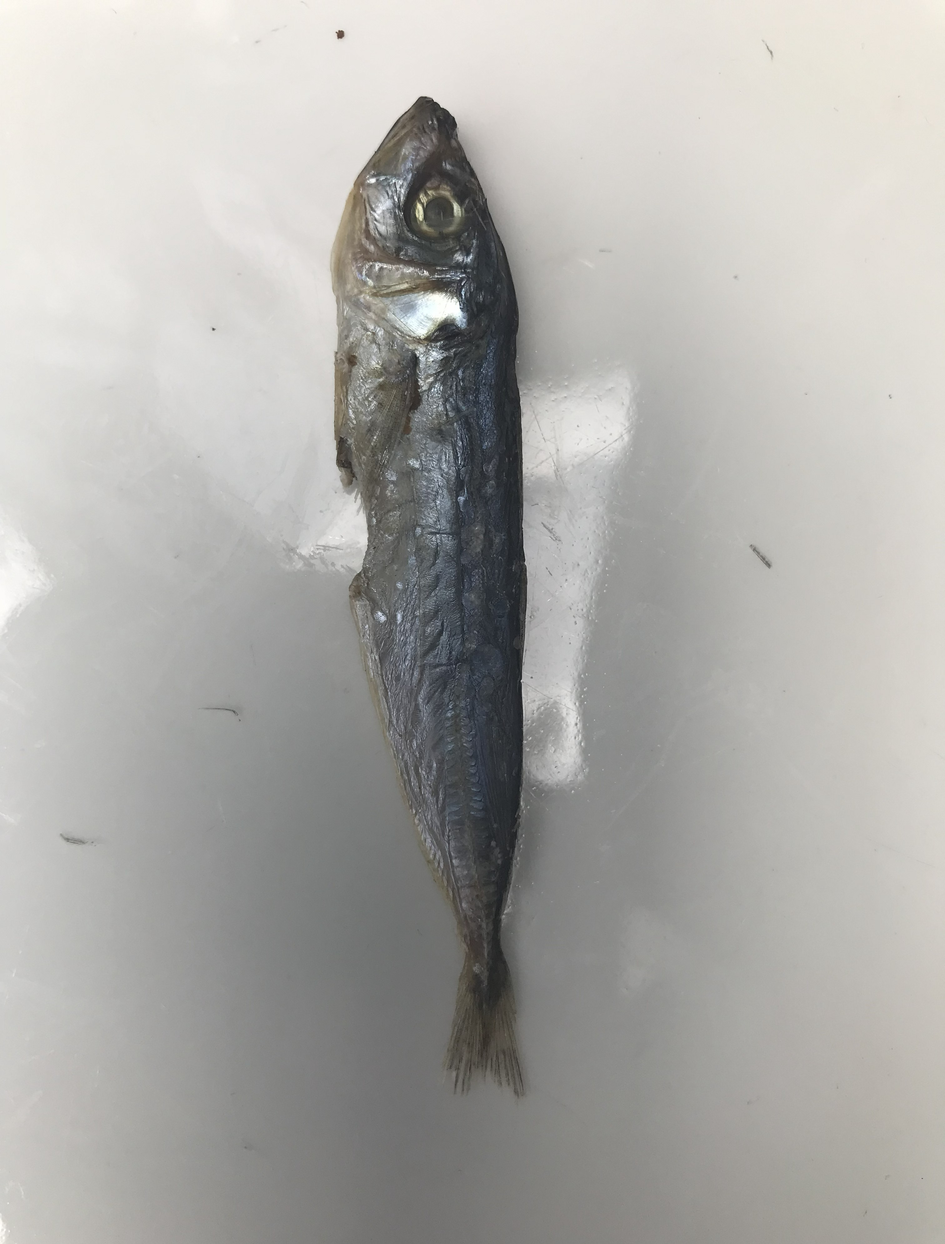burot_dried_: (134, 96, 893, 1244)
